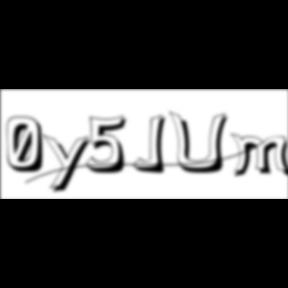0: (7, 115, 52, 174)
5: (86, 114, 132, 176)
J: (134, 114, 172, 176)
U: (170, 110, 234, 176)
y: (43, 132, 97, 196)
